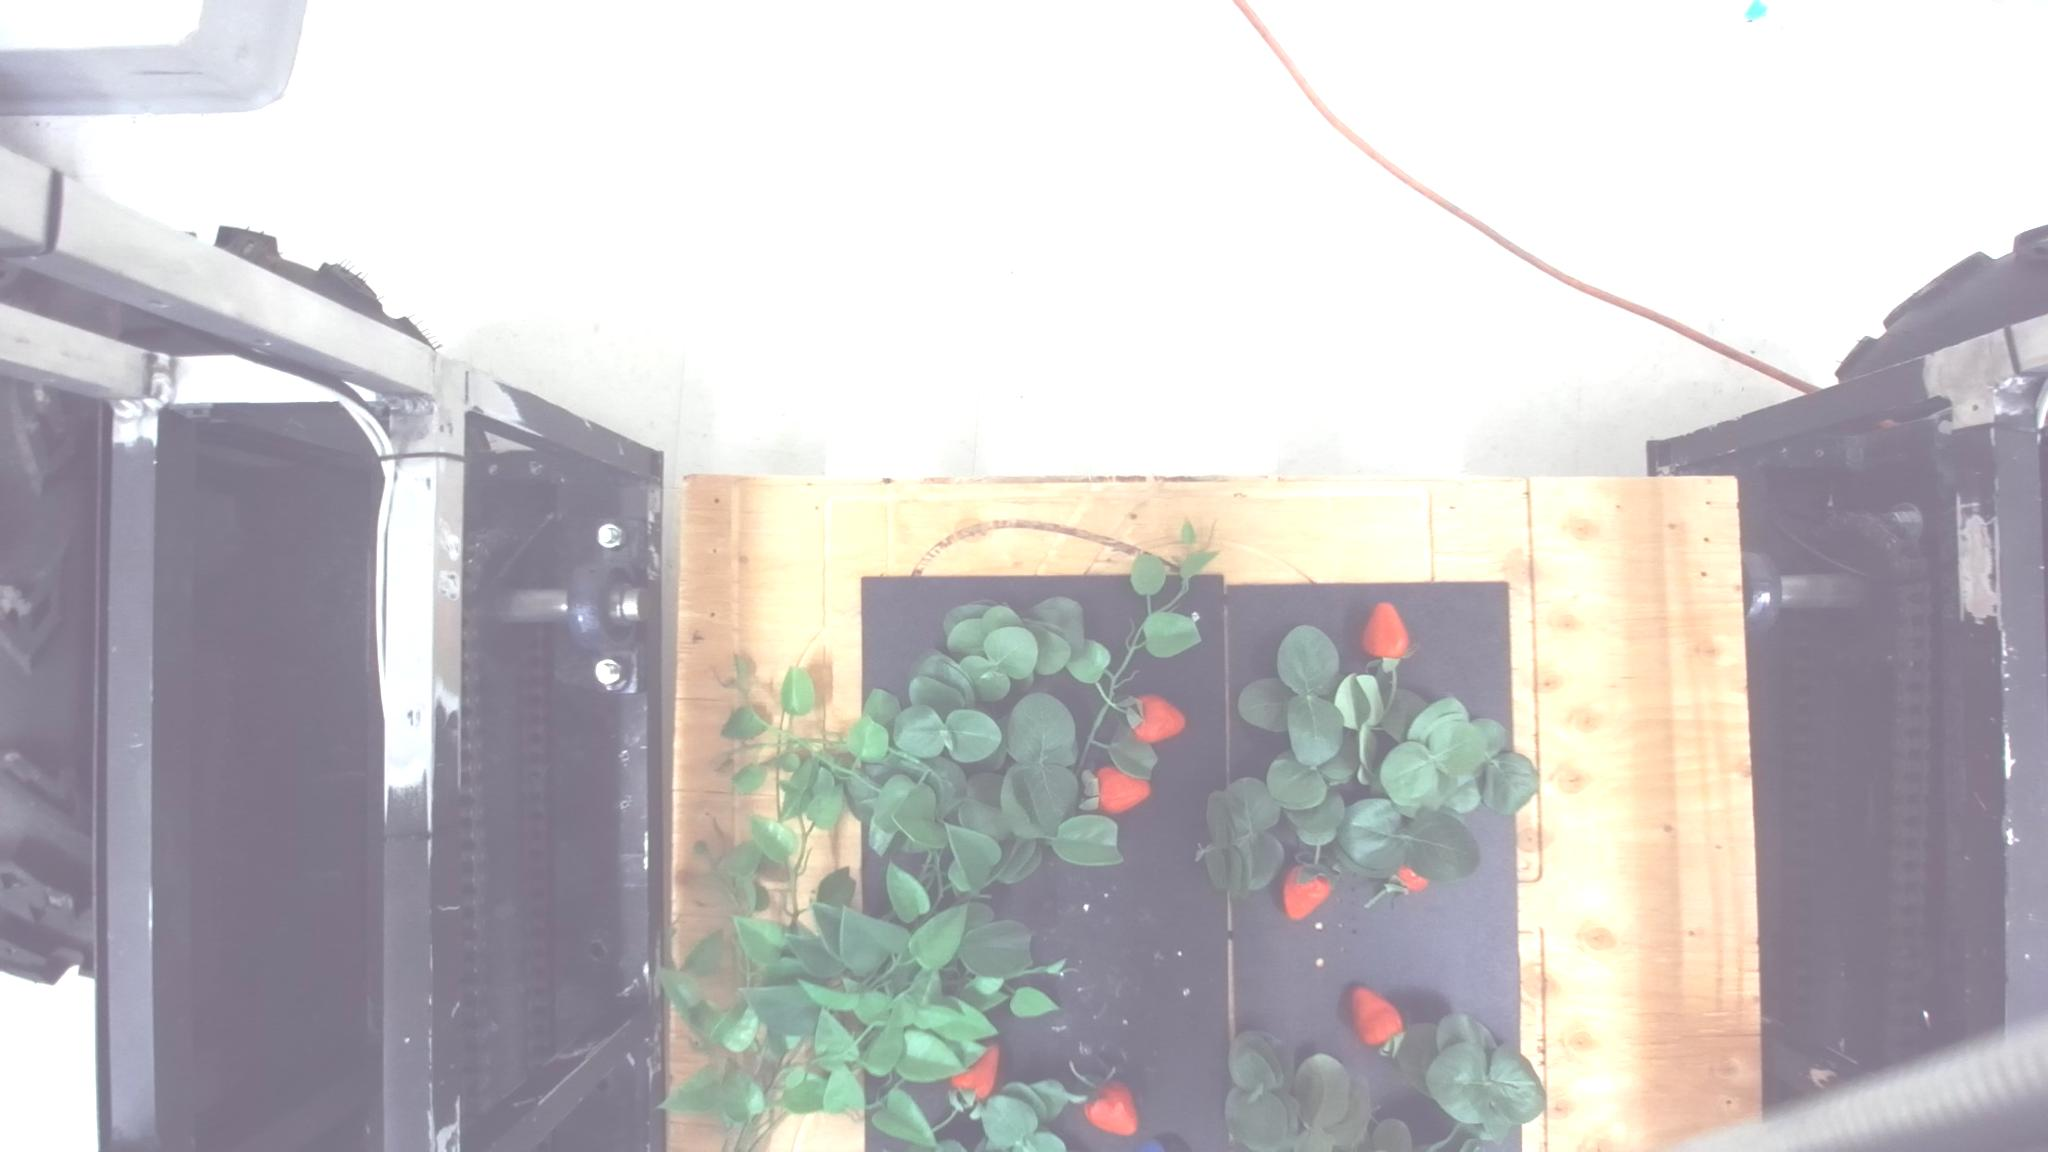mature: (1340, 982, 1405, 1055), (1082, 1079, 1138, 1137), (947, 1042, 999, 1104), (1122, 692, 1184, 744), (1280, 862, 1332, 920), (1360, 601, 1409, 661), (1093, 764, 1151, 814), (1393, 864, 1428, 895)
